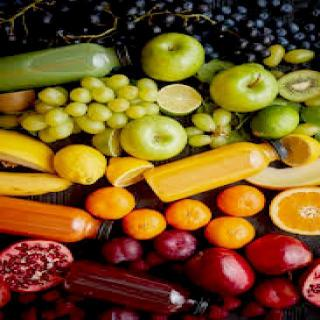orange: (160, 192, 212, 234), (124, 209, 188, 243), (201, 211, 256, 250), (213, 182, 266, 222)
